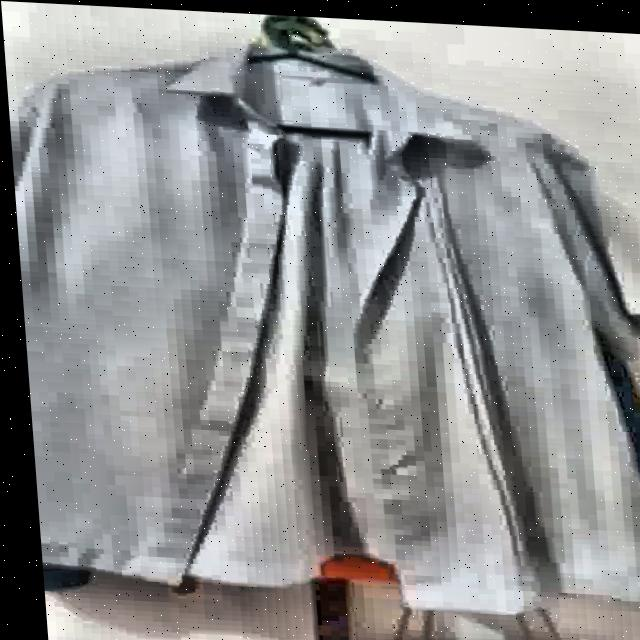clothes: (3, 4, 640, 635)
